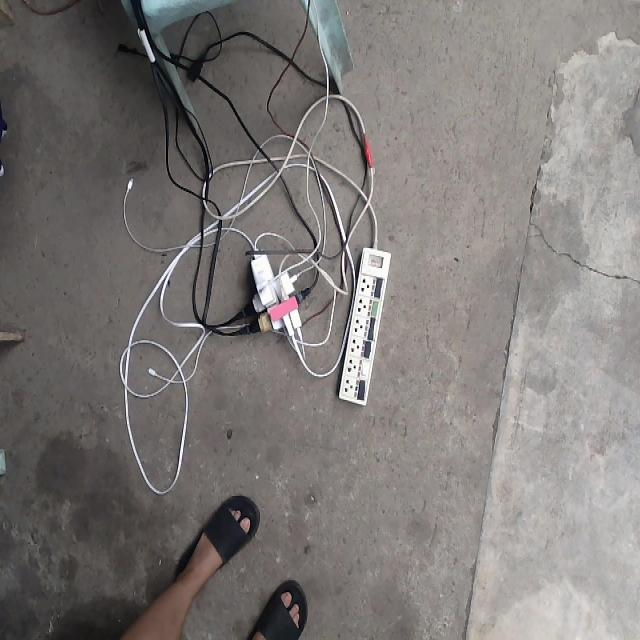-: (236, 243, 312, 340)
